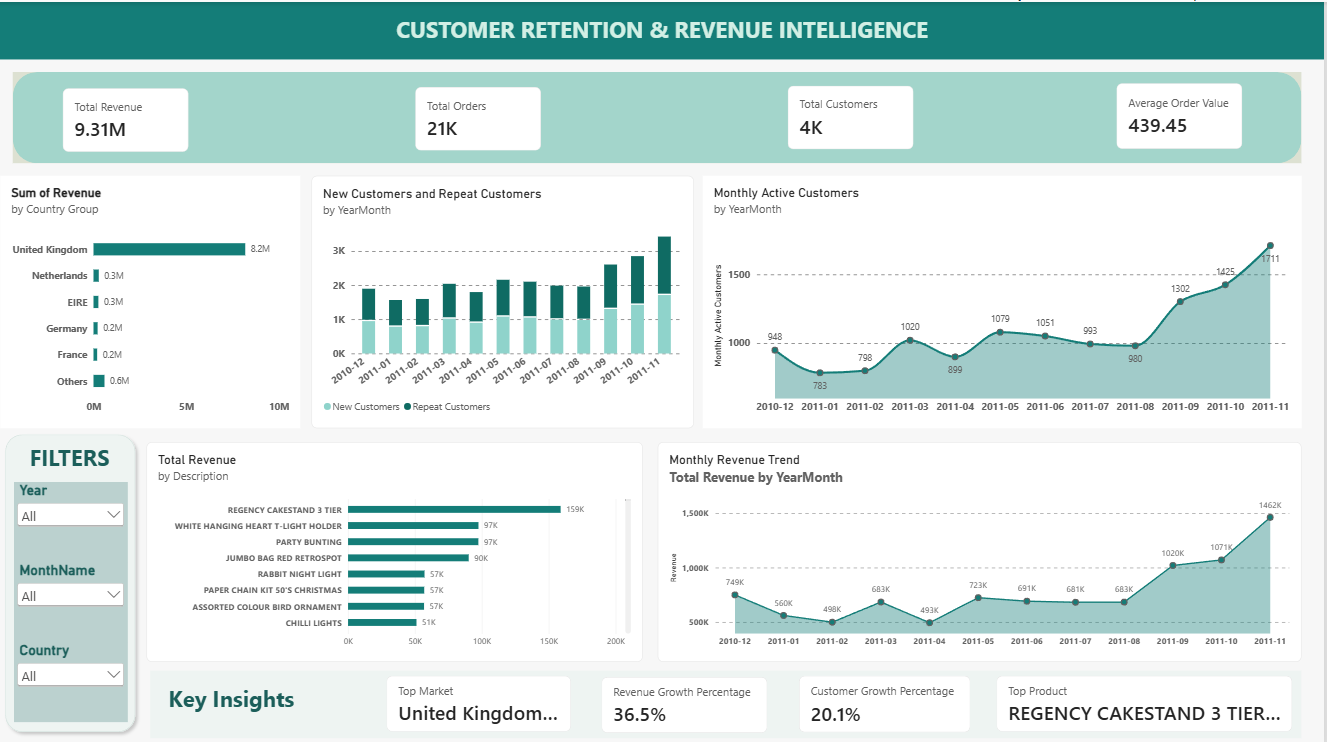

This screenshot's page, from the dashboard's own definition file:
{"tool":"powerbi","page":{"name":"Page 1","canvas":[1920,1080],"ordinal":0},"visuals":[{"type":"shape","box":[19.9,101.3,1865.8,132.1],"z":0},{"type":"shape","box":[0,617.1,206.3,448.8],"z":1000},{"type":"textbox","box":[0,0,1920.1,83.2],"z":2000},{"type":"cardVisual","fields":{"Data":["Online Retail.Total Revenue"]},"box":[92.3,124.9,182.8,92.3],"z":3000},{"type":"cardVisual","fields":{"Data":["Online Retail.Total Orders"]},"box":[602.6,123.1,182.8,92.3],"z":4000},{"type":"cardVisual","fields":{"Data":["Online Retail.Total Customers"]},"box":[1141.9,121.2,182.8,92.3],"z":5000},{"type":"cardVisual","fields":{"Data":["Online Retail.Average Order Value"]},"box":[1617.8,117.6,182.8,95.9],"z":6000},{"type":"lineChart","title":"Monthly Revenue Trend","fields":{"Category":["DateTable.YearMonth"],"Y":["Online Retail.Total Revenue"]},"box":[953.7,637,932,318.5],"z":7000},{"type":"clusteredBarChart","fields":{"Category":["Country Revenue Groups.Country Group"],"Y":["Sum(Country Revenue Groups.Revenue)"]},"box":[1.8,251.5,434.3,365.6],"z":8000},{"type":"clusteredBarChart","fields":{"Category":["Online Retail.Description"],"Y":["Online Retail.Total Revenue"]},"box":[213.5,637,718.4,318.5],"z":9000},{"type":"lineChart","fields":{"Category":["DateTable.YearMonth"],"Y":["Online Retail.Monthly Active Customers"]},"box":[1018.8,251.5,866.8,365.6],"z":10000},{"type":"slicer","fields":{"Values":["DateTable.Year"]},"box":[21.7,694.9,164.6,116.3],"z":11000},{"type":"slicer","fields":{"Values":["DateTable.MonthName"]},"box":[21.7,810.7,164.6,116.3],"z":12000},{"type":"slicer","fields":{"Values":["Online Retail.Country"]},"box":[21.7,926.5,164.6,116.3],"z":13000},{"type":"textbox","box":[19.9,637,164.7,47.1],"z":14000},{"type":"textbox","box":[219,968.2,1666.7,97.7],"z":15000},{"type":"cardVisual","fields":{"Data":["Online Retail.Revenue Growth Percentage"]},"box":[872.3,977.2,240.7,81.4],"z":16000},{"type":"cardVisual","fields":{"Data":["Online Retail.Customer Growth Percentage"]},"box":[1158.2,975.4,248.6,82.2],"z":17000},{"type":"cardVisual","fields":{"Data":["Online Retail.Top Market"]},"box":[561,975.4,267.8,81.4],"z":18000},{"type":"cardVisual","fields":{"Data":["Online Retail.Top Product"]},"box":[1444.1,975.4,428.9,81.4],"z":19000},{"type":"columnChart","fields":{"Category":["DateTable.YearMonth"],"Y":["Online Retail.New Customers","Online Retail.Repeat Customers"]},"box":[452.4,251.5,553.8,365.6],"z":19001}]}

Visuals, with their boxes in screenshot pixels (x1, y1, x2, y2), scaled from the page's 1920x1080 canvas onto the 1327x742 screenshot:
shape: crop(14, 70, 1303, 160)
shape: crop(0, 424, 143, 732)
textbox: crop(0, 0, 1326, 57)
cardVisual - Online Retail.Total Revenue: crop(64, 86, 190, 149)
cardVisual - Online Retail.Total Orders: crop(416, 85, 543, 148)
cardVisual - Online Retail.Total Customers: crop(789, 83, 916, 147)
cardVisual - Online Retail.Average Order Value: crop(1118, 81, 1244, 147)
"Monthly Revenue Trend" lineChart: crop(659, 438, 1303, 656)
clusteredBarChart - Country Revenue Groups.Country Group x Sum(Country Revenue Groups.Revenue): crop(1, 173, 301, 424)
clusteredBarChart - Online Retail.Description x Online Retail.Total Revenue: crop(148, 438, 644, 656)
lineChart - DateTable.YearMonth x Online Retail.Monthly Active Customers: crop(704, 173, 1303, 424)
slicer - DateTable.Year: crop(15, 477, 129, 557)
slicer - DateTable.MonthName: crop(15, 557, 129, 637)
slicer - Online Retail.Country: crop(15, 637, 129, 716)
textbox: crop(14, 438, 128, 470)
textbox: crop(151, 665, 1303, 732)
cardVisual - Online Retail.Revenue Growth Percentage: crop(603, 671, 769, 727)
cardVisual - Online Retail.Customer Growth Percentage: crop(800, 670, 972, 727)
cardVisual - Online Retail.Top Market: crop(388, 670, 573, 726)
cardVisual - Online Retail.Top Product: crop(998, 670, 1295, 726)
columnChart - DateTable.YearMonth x Online Retail.New Customers: crop(313, 173, 695, 424)
